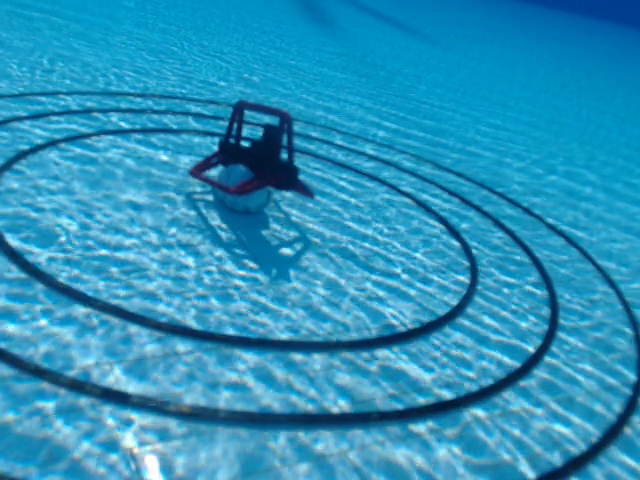submarine: (188, 98, 319, 203)
